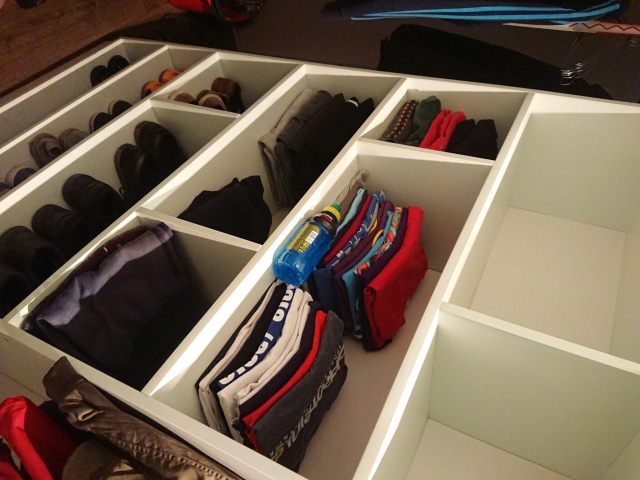Vindi Iso Sport Forest Strawberries 500mL: (271, 201, 341, 288)
